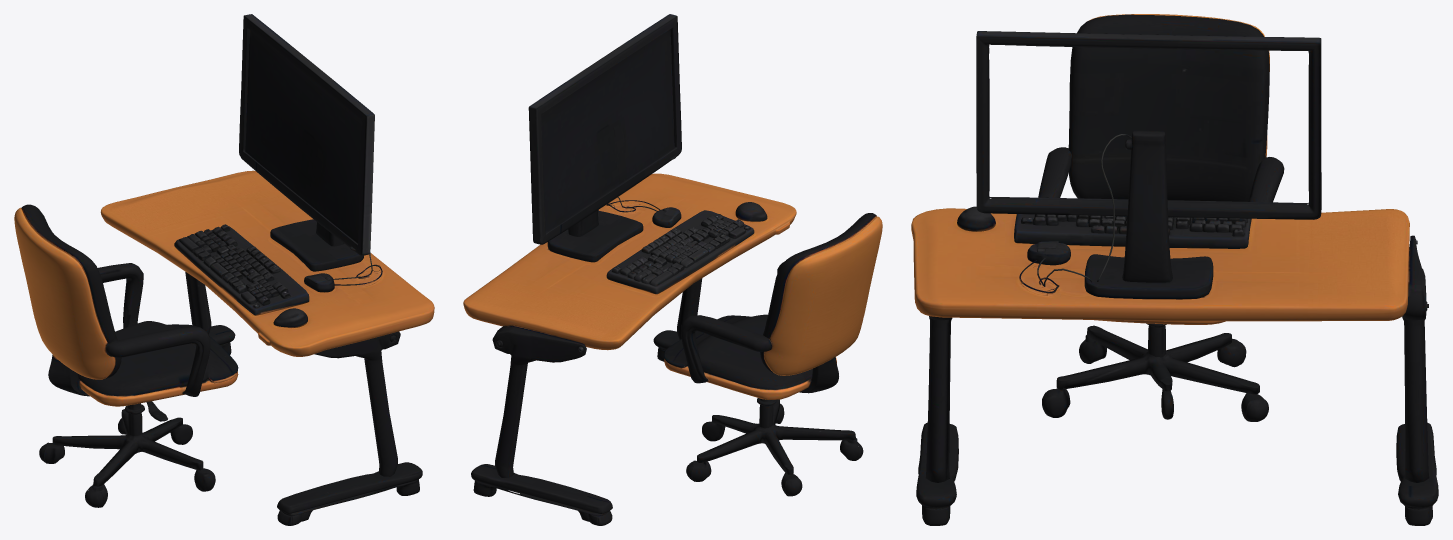
File: toonstudio_pc_desk.glb
The picture shows the model from 3 angles, left to right: view 1: azimuth 30°, elevation 25°; view 2: azimuth 150°, elevation 25°; view 3: azimuth 270°, elevation 25°; orthographic projection. The views are drawn at different scales.
Parts seen in each view (by area): view 1: b6f30b71_6240_4d70_9b87_3a042139532d; view 2: b6f30b71_6240_4d70_9b87_3a042139532d; view 3: b6f30b71_6240_4d70_9b87_3a042139532d.
Boxes of the visible parts, bbox=[...] form: b6f30b71_6240_4d70_9b87_3a042139532d: bbox=[14, 14, 434, 525]; b6f30b71_6240_4d70_9b87_3a042139532d: bbox=[463, 14, 882, 525]; b6f30b71_6240_4d70_9b87_3a042139532d: bbox=[911, 14, 1438, 525].
Size of the model in its own units: 1.61 by 1.8 by 1.8.
1 material, 1 textured.
